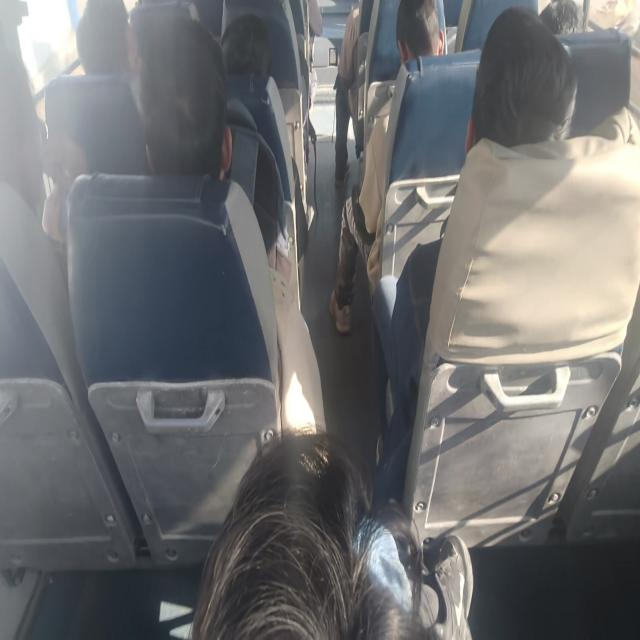person: (192, 438, 455, 640), (150, 38, 246, 189), (467, 46, 553, 142), (0, 24, 59, 160), (216, 17, 278, 124), (78, 6, 142, 83), (401, 0, 444, 78), (540, 0, 586, 36)
